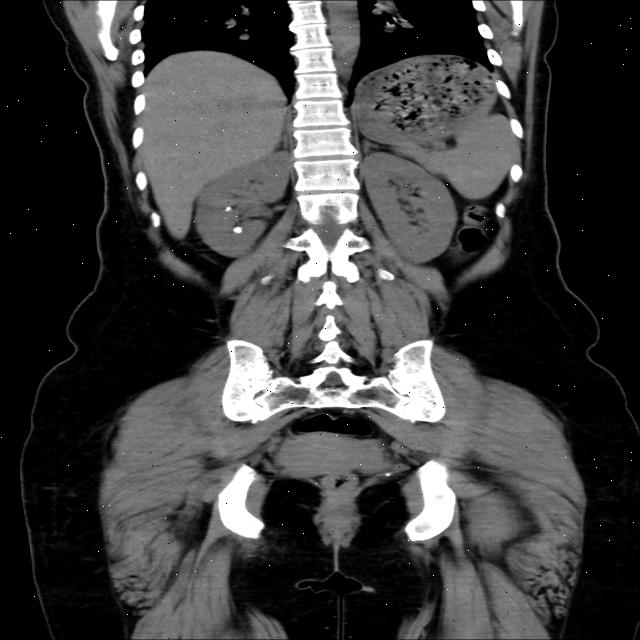kidneystone: (233, 226, 244, 234), (224, 206, 231, 211)
